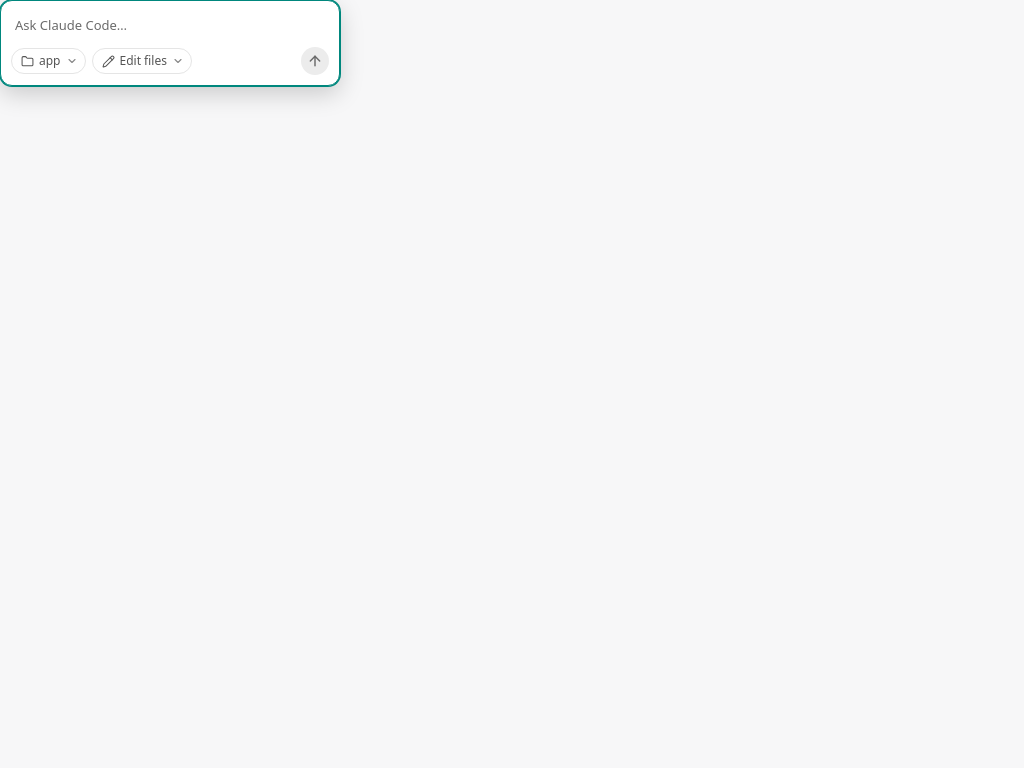
Test: ComposerCard › cancelling the notice keeps the draft and sends nothing
Type "hello" into the text box named "Message" at [172, 25], box [15, 13, 329, 37]
Then press Enter
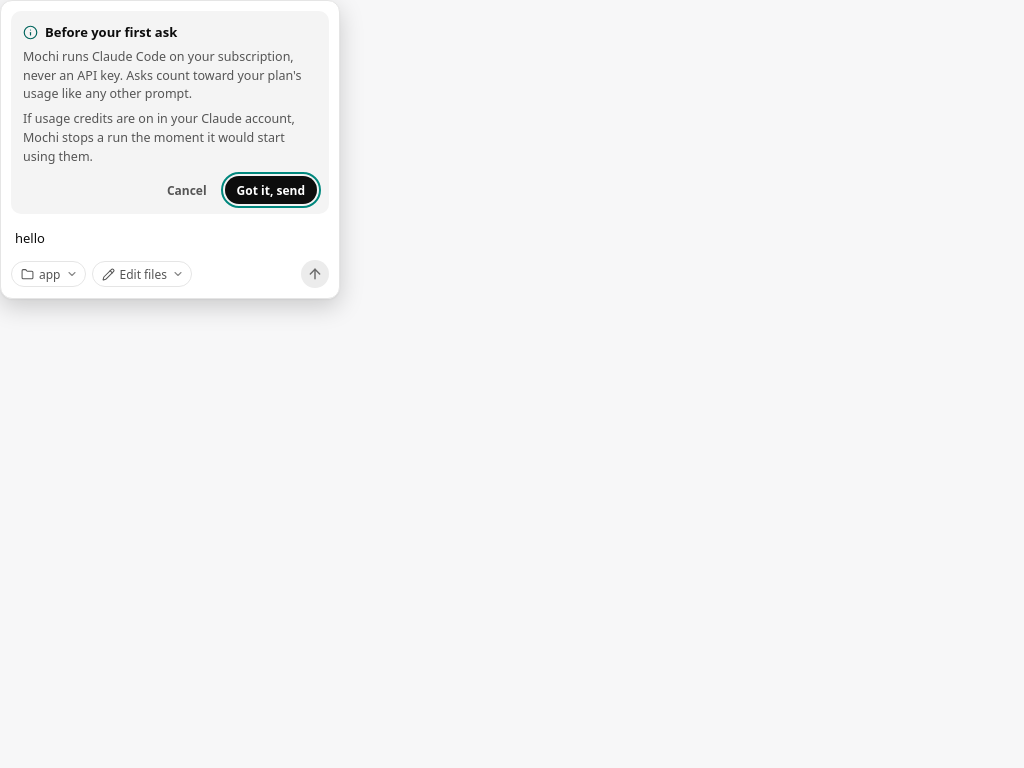
Click the button "Cancel" at [187, 190], box [155, 176, 219, 204]
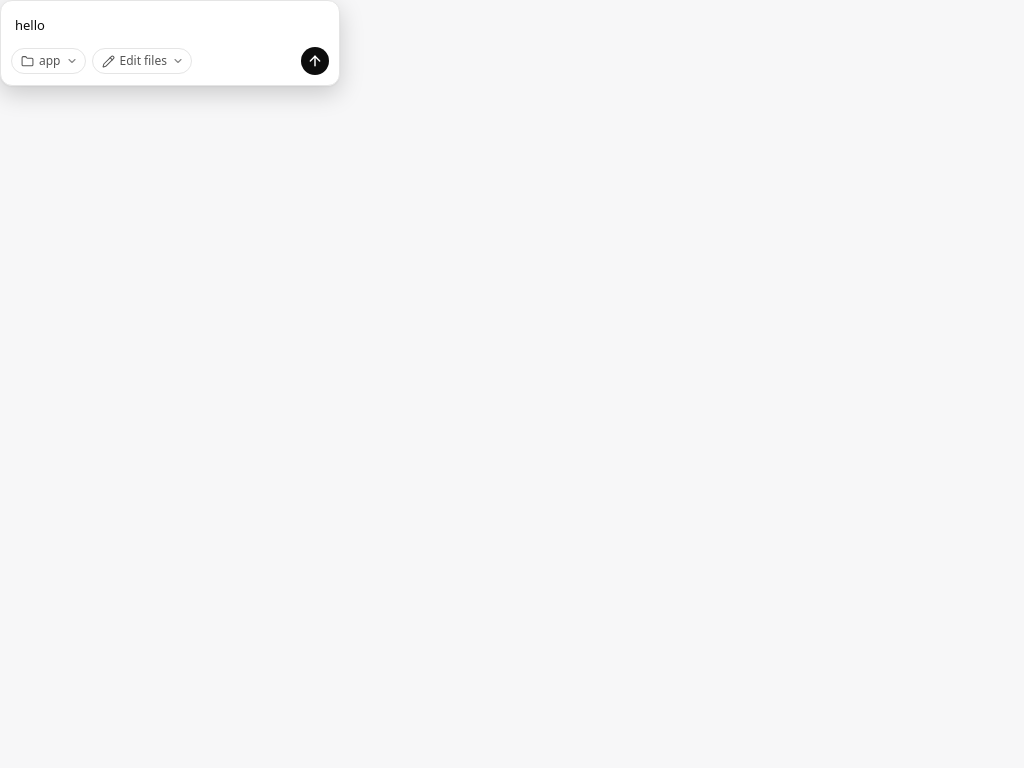
Expected: the dialog is gone
